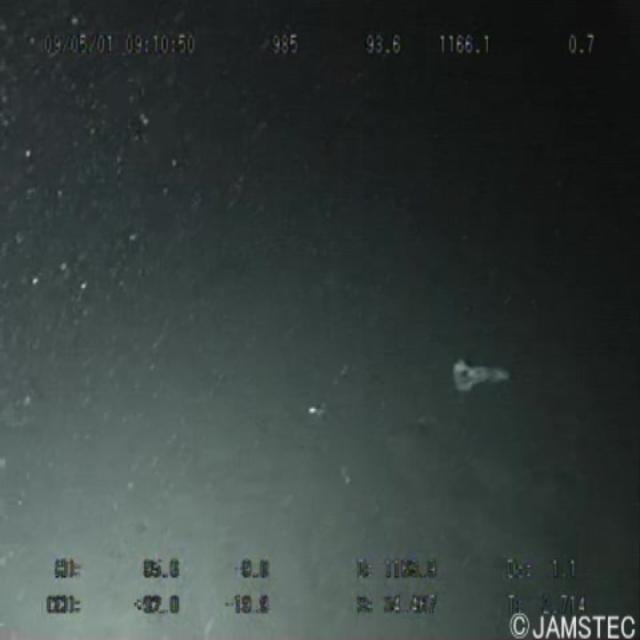Plastic: (446, 332, 514, 423)
